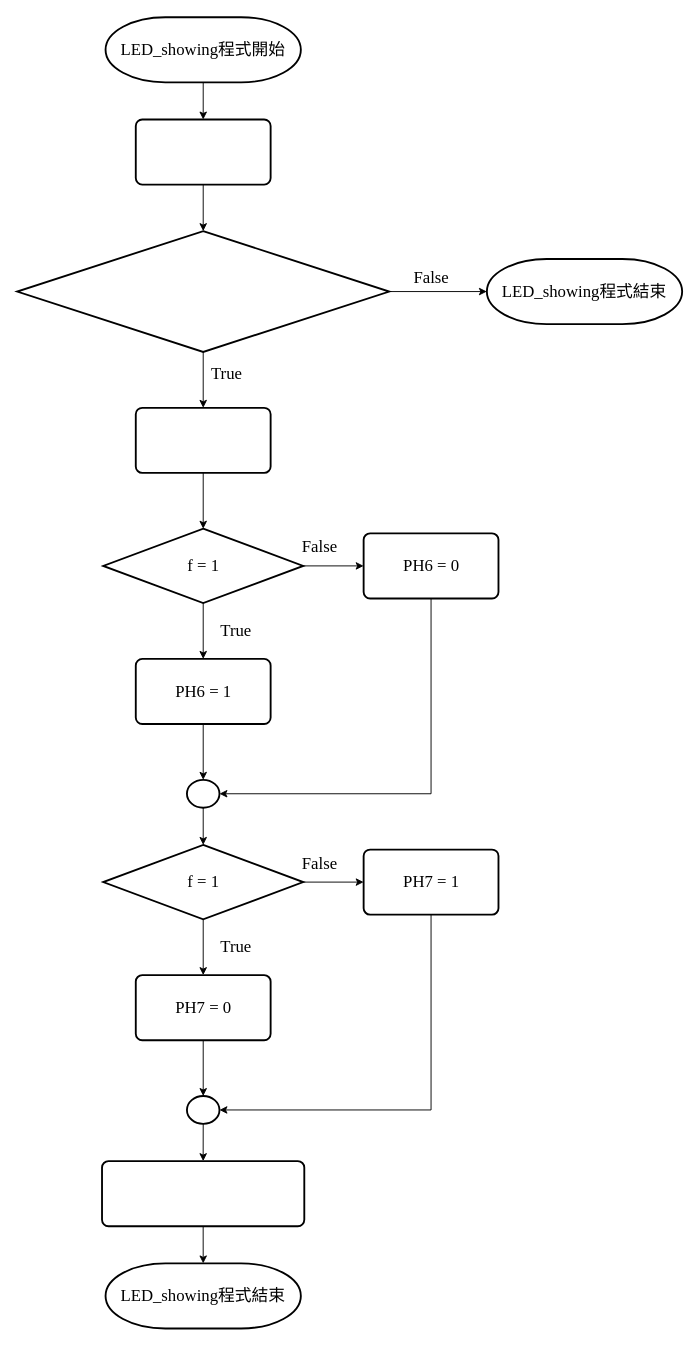
Some shapes in this 698 by 1345 pixel diagram are drawn without their labels. Each missing label, with the centre of its shape:
"(timecount - old_timecount) >= SpeedCtl" goes at (203,291).
"define variables" goes at (202,151).
"f ^= 0x01" goes at (202,439).
"old_timecount = timecount" goes at (203,1193).
